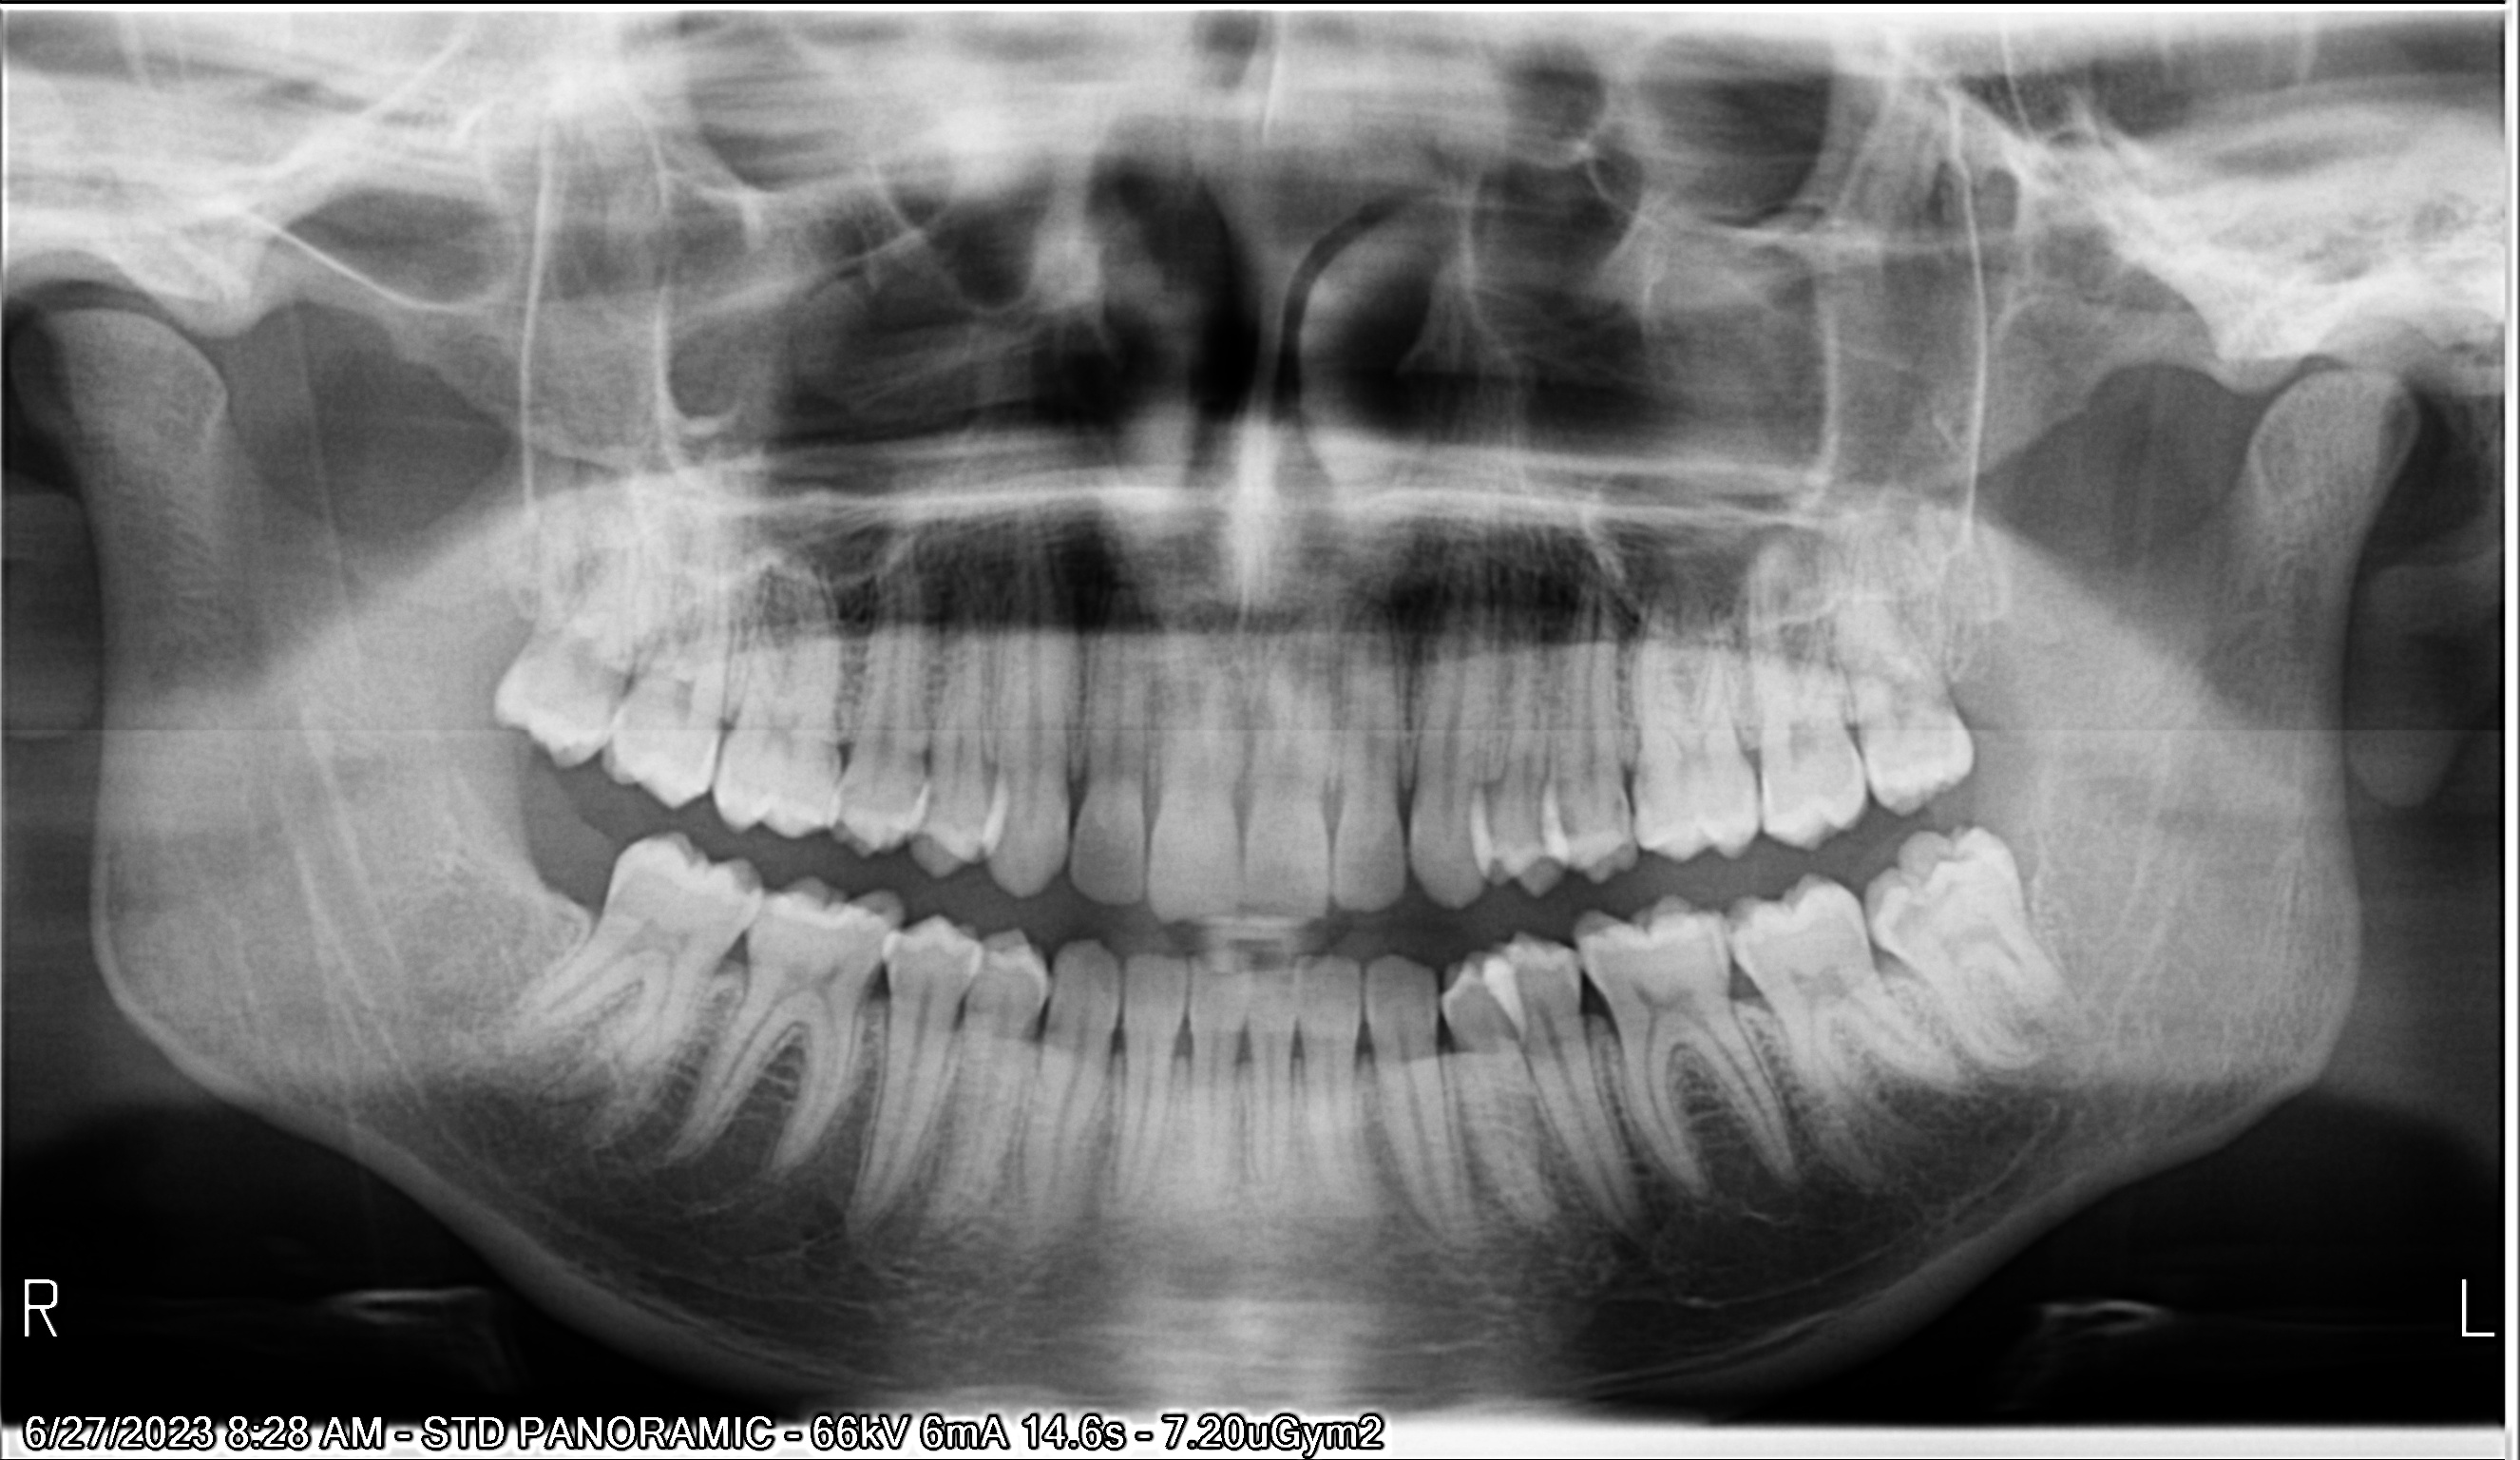BON: (1850, 926, 1938, 1005), (1709, 970, 1792, 1038)
